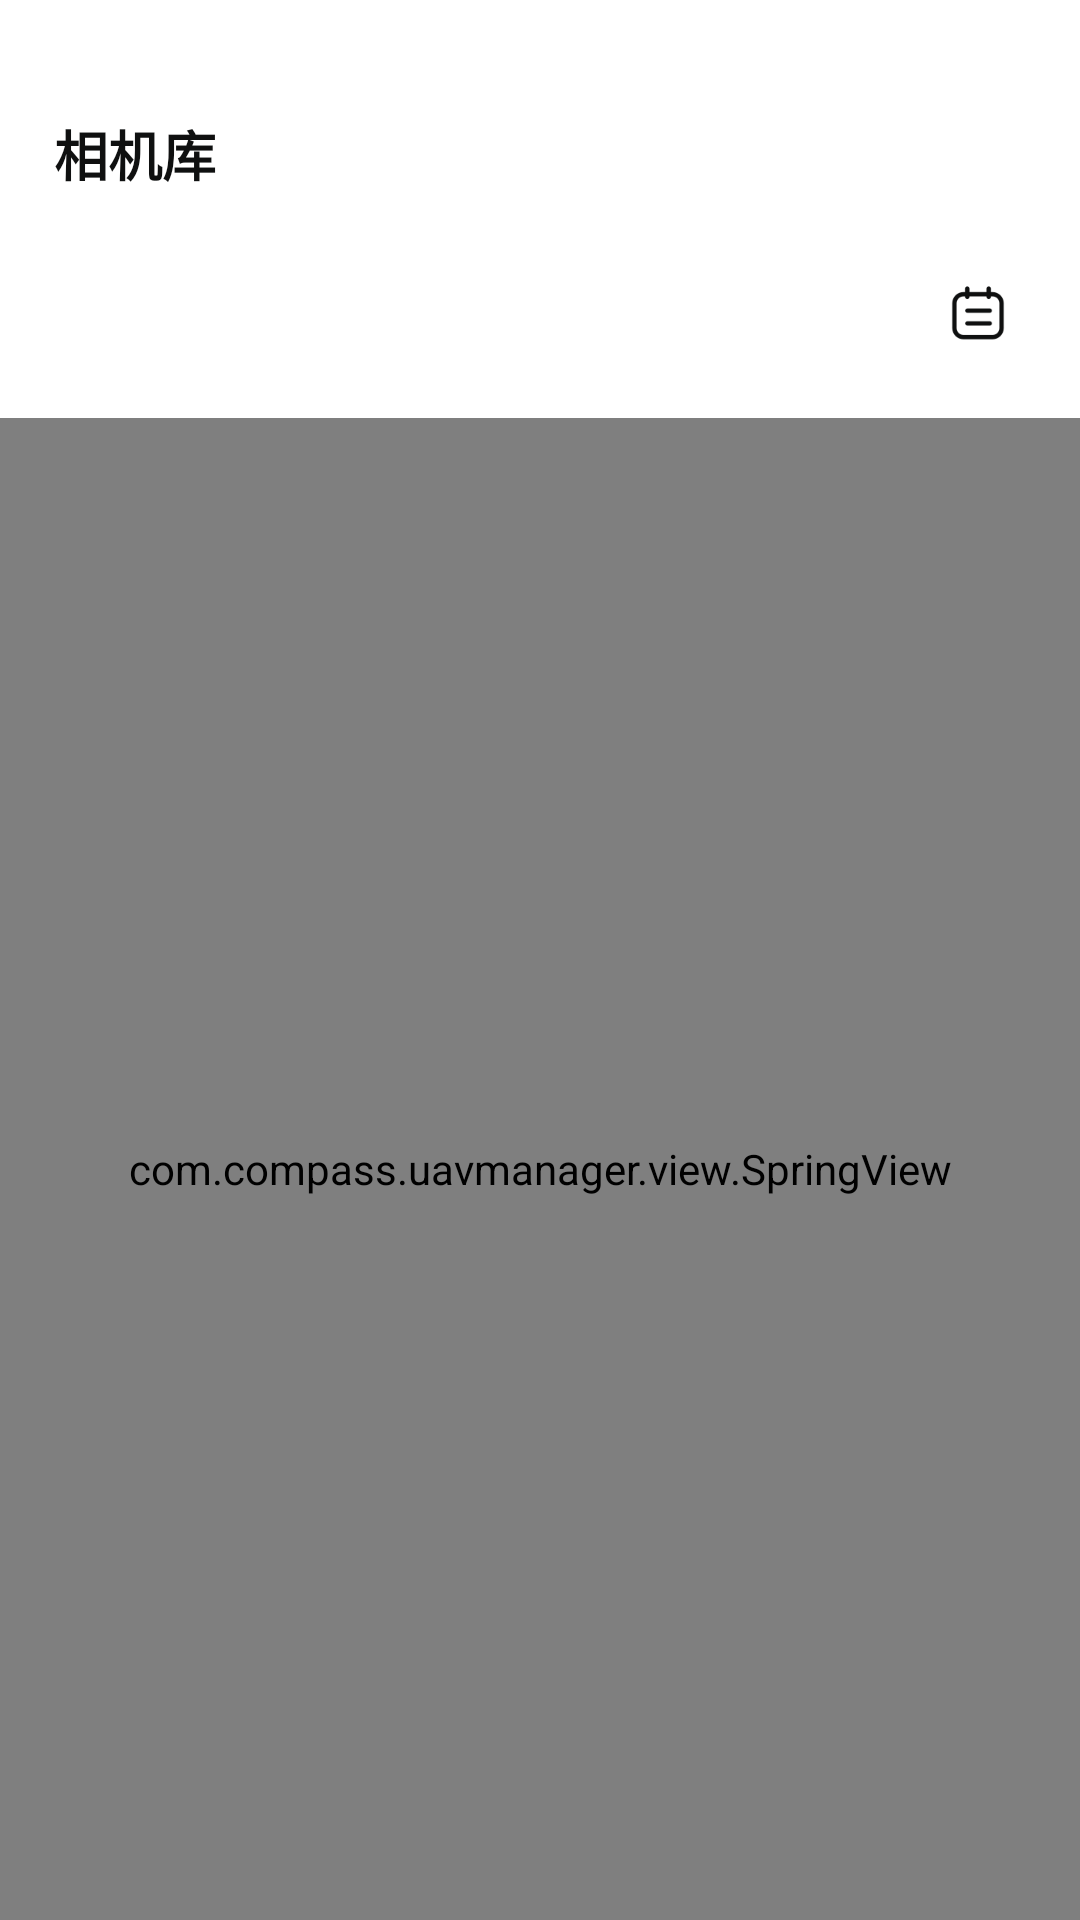

Named icons in this screenshot (1080×1920) and their bounding boxes, bbox(x1, y1, x2, y2):
data select: bbox(952, 286, 1004, 340)
